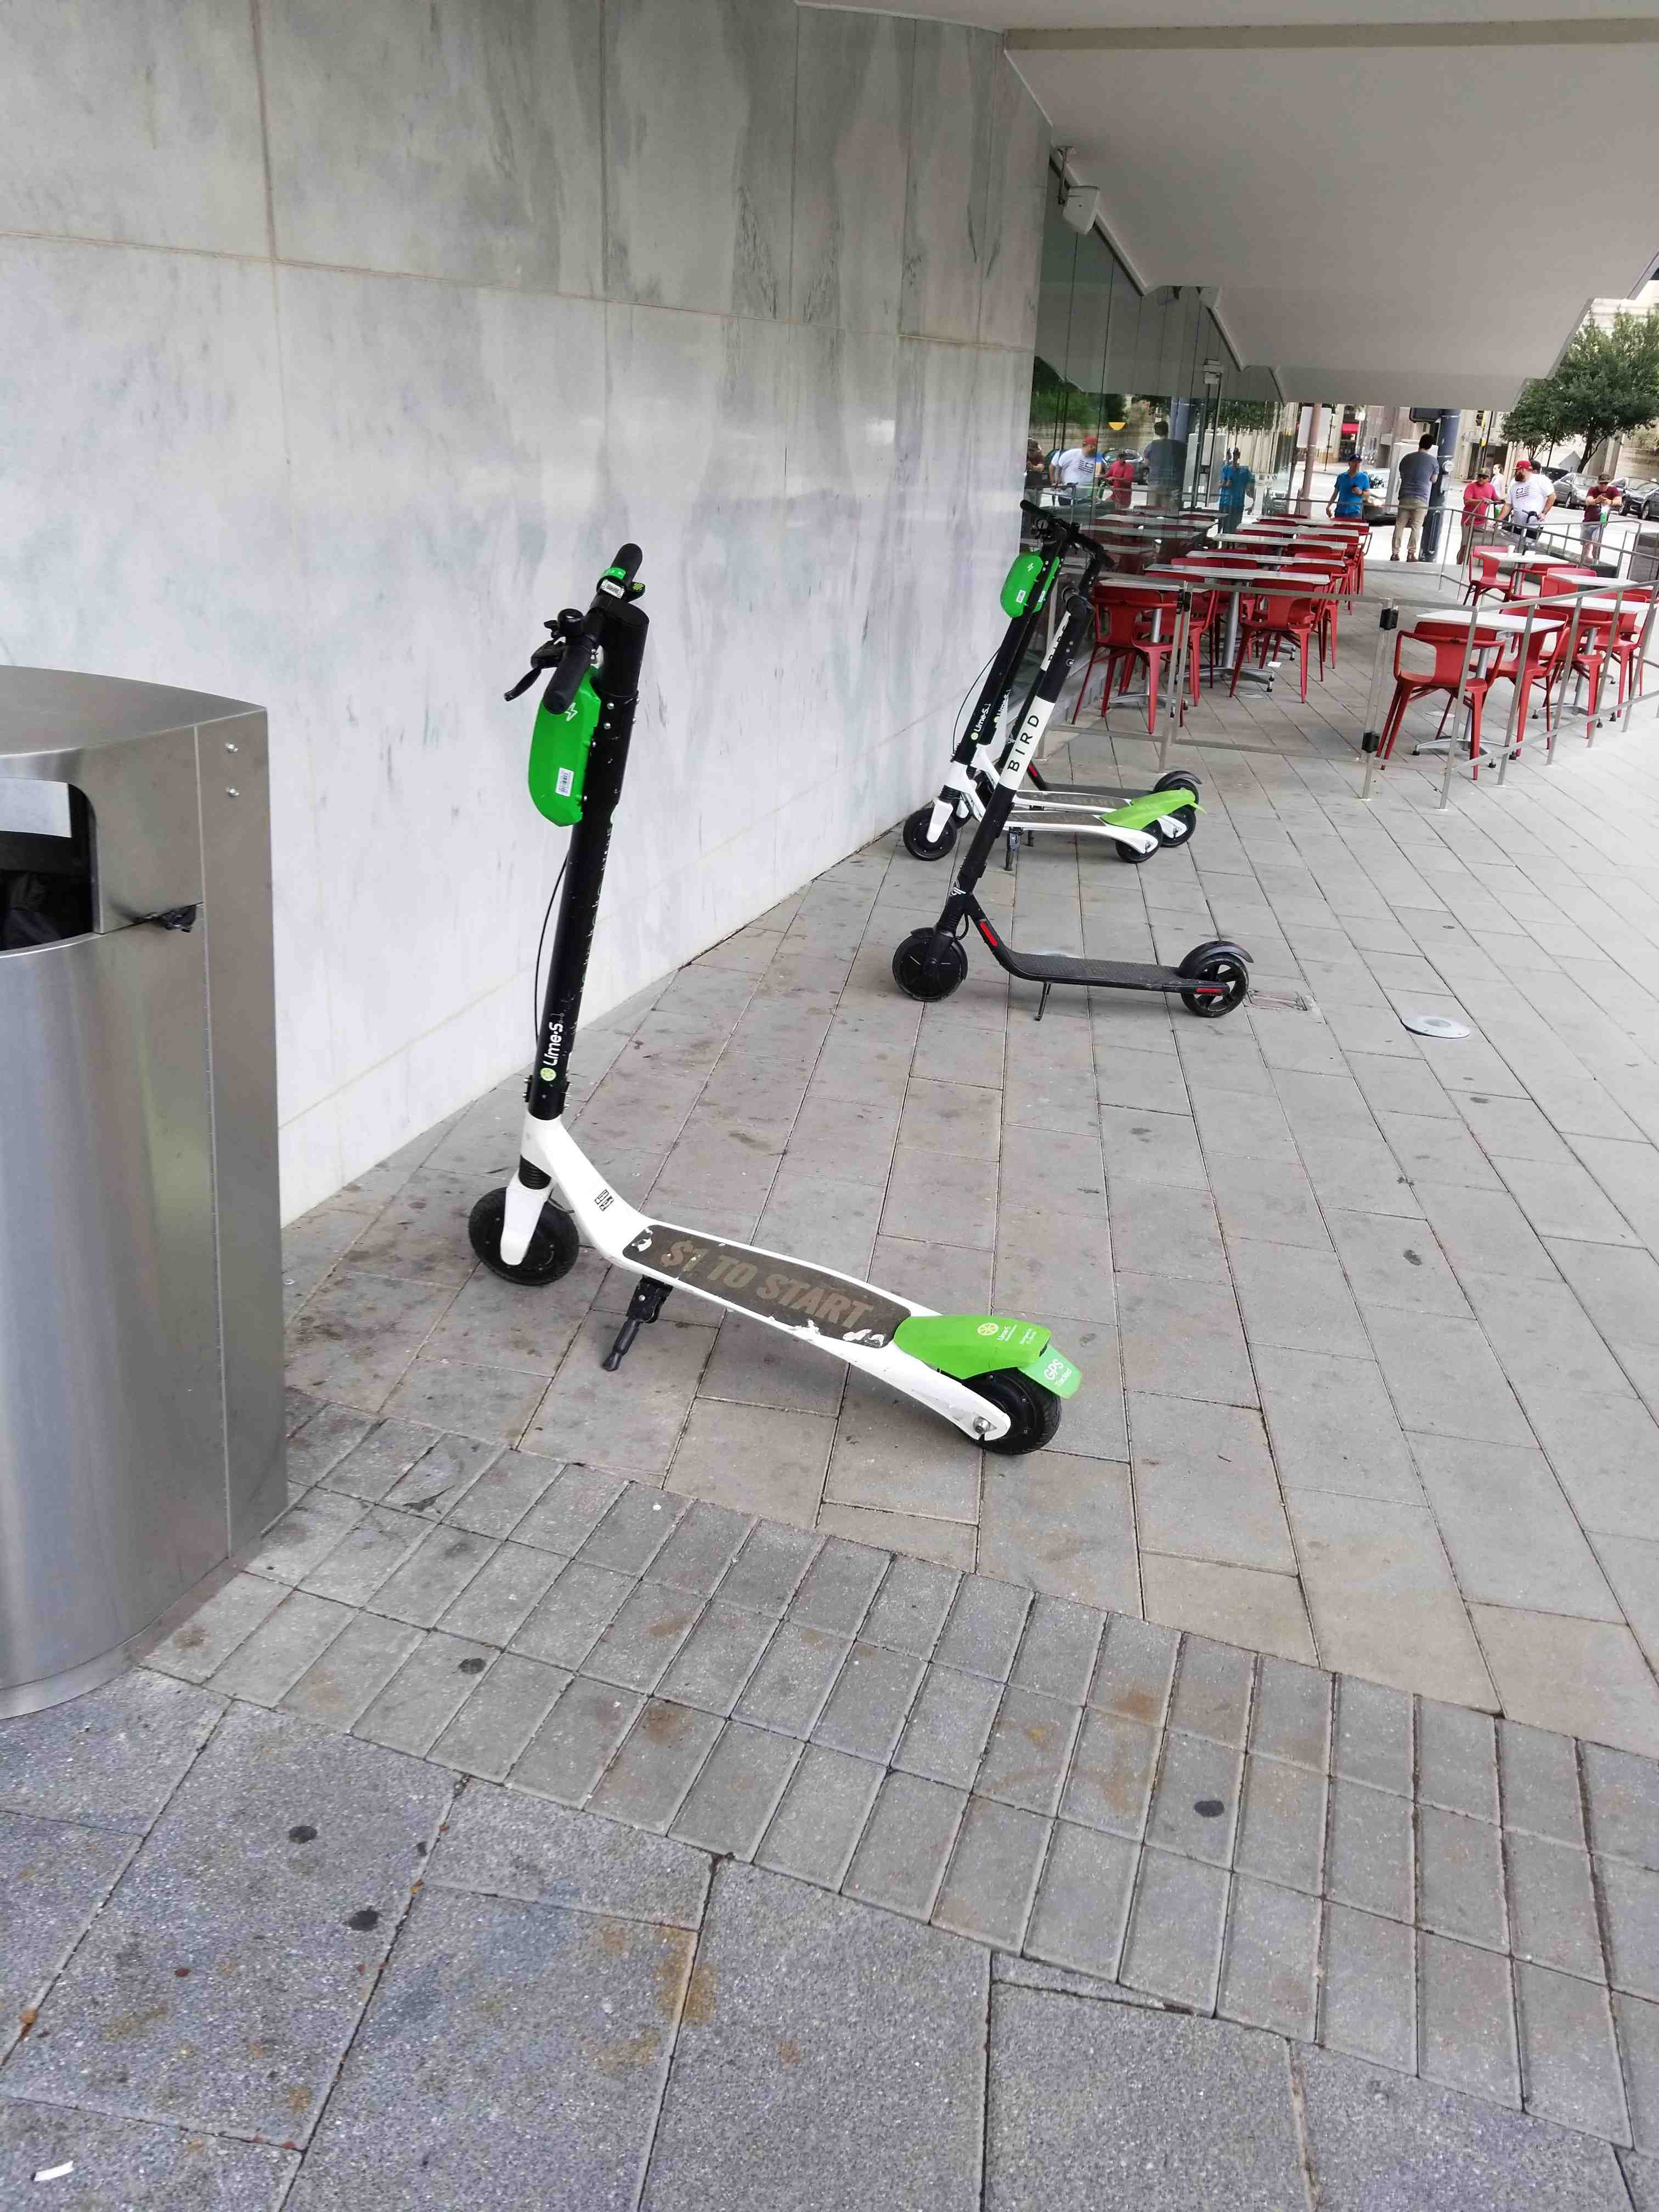scooter: (437, 496, 1094, 1498)
